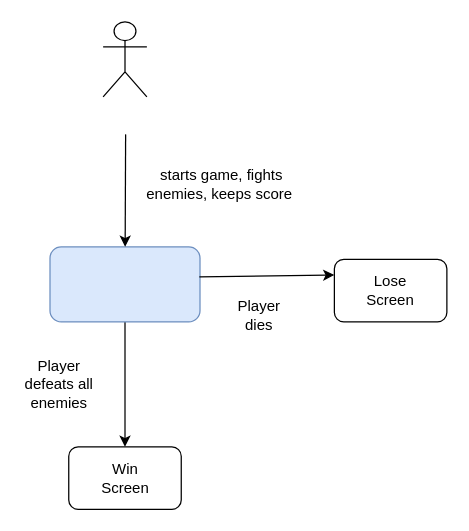
The diagram is 469 pixels wide and 531 high, and some of its shapes have lost their labels. The shapes that lost their labels are listed below. From the top down, each one's centre as x and y in pixels, then its label:
point (124, 59): Player
point (124, 284): Game Loop
